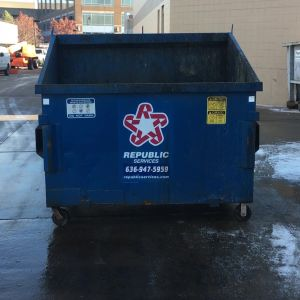Dumpster: (32, 29, 268, 228)
